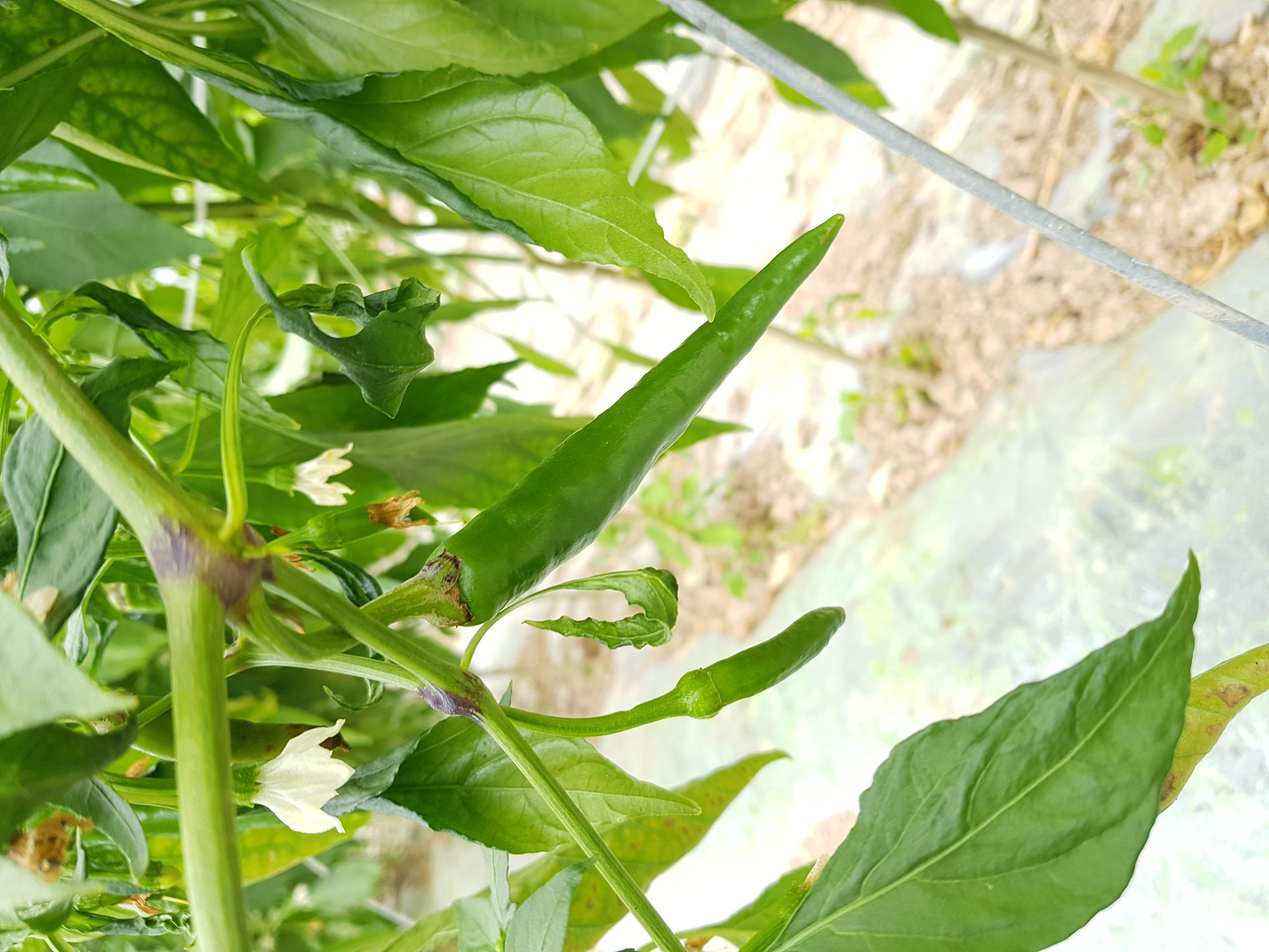Buah Cabai Sehat: (415, 207, 853, 639)
